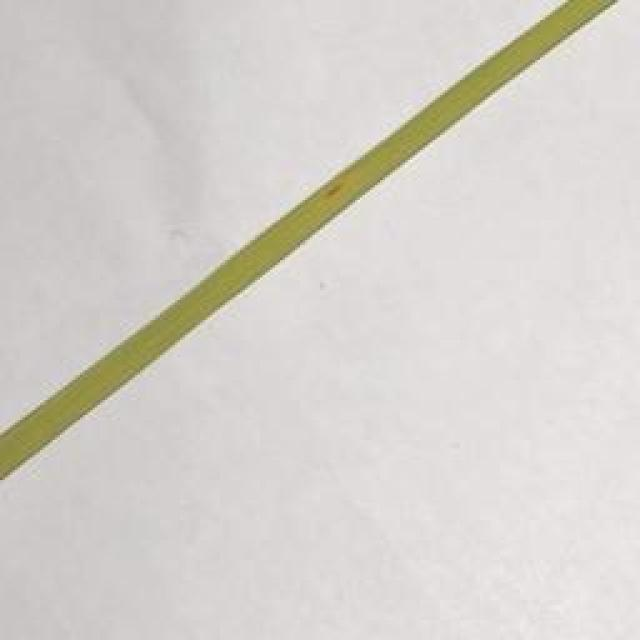Brown_Spot: (319, 168, 358, 205)
